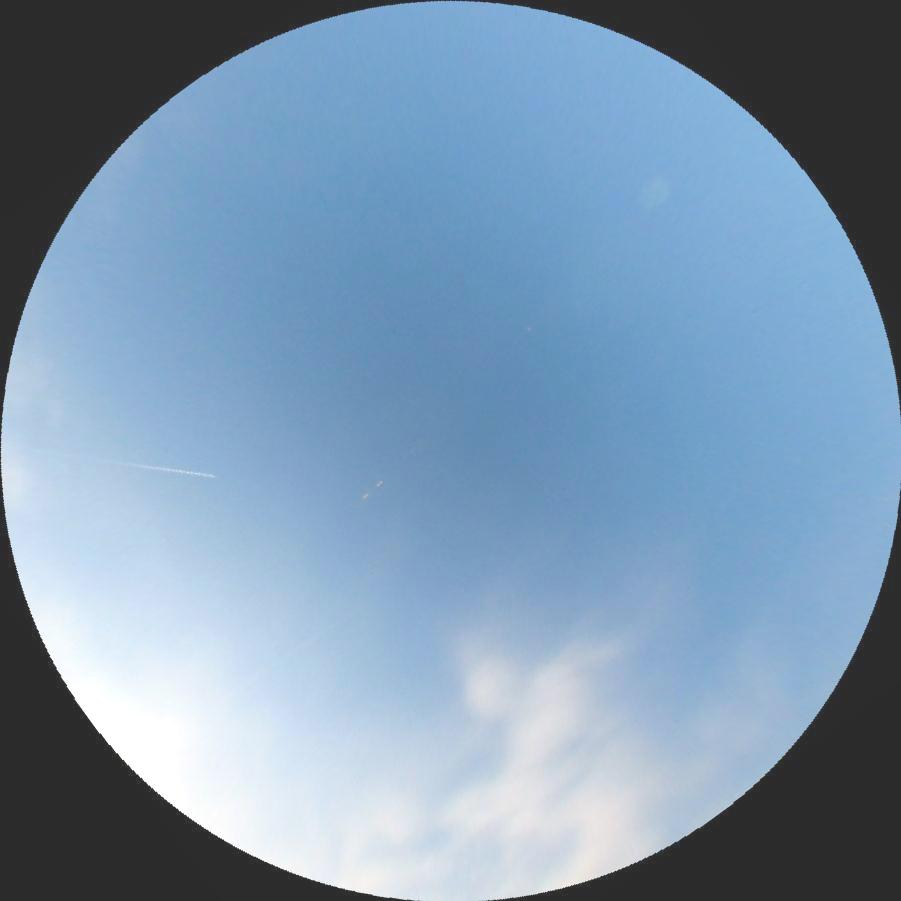contrail young: (108, 459, 216, 479)
